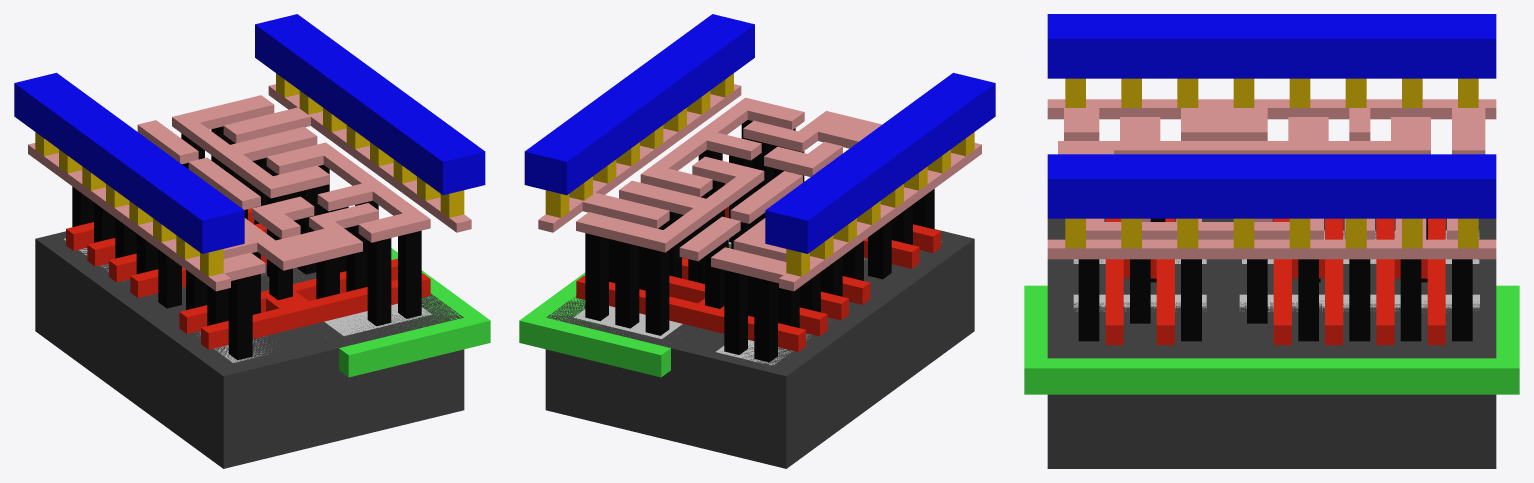
The model's file is sky130_fd_sc_hd__nor3_2.obj.
3 views of the same model, side by side, from view 1: azimuth 30°, elevation 25°; view 2: azimuth 150°, elevation 25°; view 3: azimuth 270°, elevation 25° (orthographic). The views are drawn at different scales.
Parts seen in each view (by area): view 1: subs, metal1, li, licon, poly, nwell, mcon, tap; view 2: subs, metal1, li, licon, poly, nwell, mcon, tap, diff; view 3: metal1, subs, li, nwell, licon, poly, mcon, tap.
Part boxes in pixels (box(x1,y1,x2,y2)): subs: box(35, 231, 464, 468); metal1: box(14, 14, 485, 253); li: box(28, 84, 471, 291); licon: box(72, 126, 421, 359); poly: box(66, 207, 430, 349); nwell: box(302, 248, 490, 377); mcon: box(35, 73, 464, 276); tap: box(261, 274, 431, 335); subs: box(545, 229, 974, 468); metal1: box(524, 14, 995, 253); li: box(538, 84, 981, 291); licon: box(585, 120, 934, 362); poly: box(576, 183, 940, 351); nwell: box(519, 245, 731, 377); mcon: box(545, 73, 974, 276); tap: box(574, 239, 731, 338); diff: box(716, 241, 941, 365); metal1: box(1047, 14, 1496, 218); subs: box(1047, 218, 1496, 468); li: box(1047, 99, 1496, 259); nwell: box(1024, 285, 1519, 394); licon: box(1078, 218, 1472, 341); poly: box(1105, 218, 1445, 345); mcon: box(1065, 78, 1478, 248); tap: box(1073, 294, 1479, 311).
Size of the model in its own units: 3.2 by 2.74 by 4.06.
